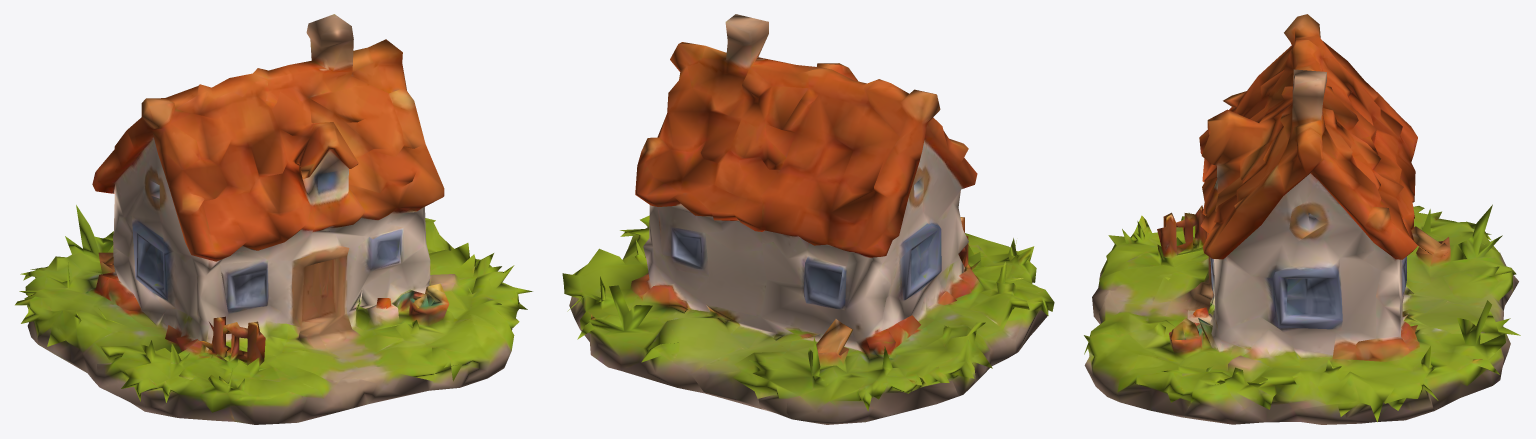
The model's file is village-house.glb.
3 renders of one model, left to right at view 1: azimuth 30°, elevation 25°; view 2: azimuth 150°, elevation 25°; view 3: azimuth 270°, elevation 25°, orthographic.
Parts seen in each view (by area): view 1: tripo_node_5ce03cb7-43a7-4e62-91fe-d5f4cc5b4e47; view 2: tripo_node_5ce03cb7-43a7-4e62-91fe-d5f4cc5b4e47; view 3: tripo_node_5ce03cb7-43a7-4e62-91fe-d5f4cc5b4e47.
Boxes of the visible parts, x1,y1,x2,y2 form: tripo_node_5ce03cb7-43a7-4e62-91fe-d5f4cc5b4e47: (15,14,532,424); tripo_node_5ce03cb7-43a7-4e62-91fe-d5f4cc5b4e47: (562,14,1054,424); tripo_node_5ce03cb7-43a7-4e62-91fe-d5f4cc5b4e47: (1084,14,1520,424).
Bounding box in the file's own units: 0.9772 × 0.6641 × 0.8988.
Materials: 1 (1 with a texture image).
